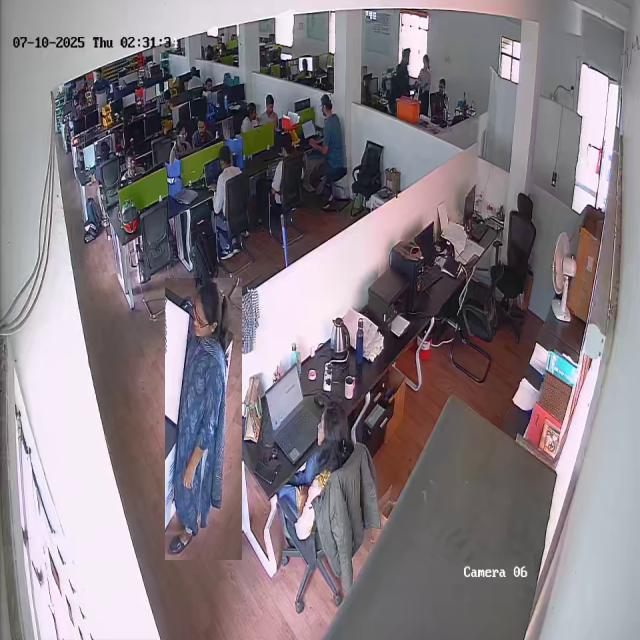person: (166, 278, 243, 560), (312, 93, 345, 175)
